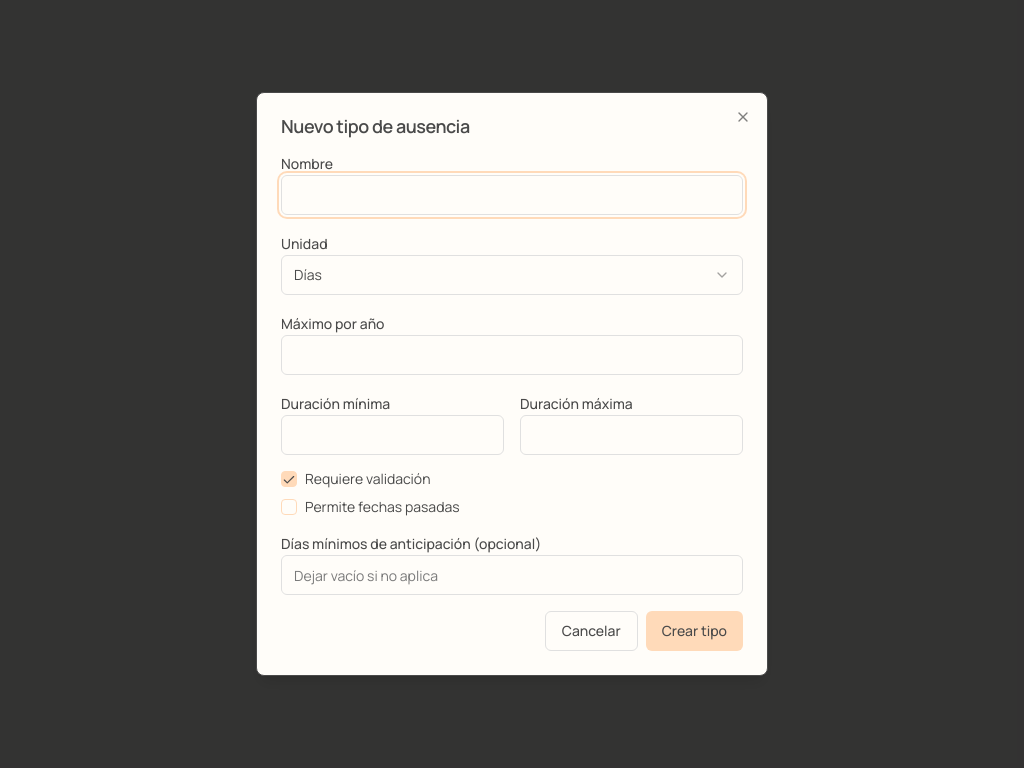
Test: AbsenceTypeFormDialog: modo crear › muestra errores de validación al enviar el formulario vacío
The image size is (1024, 768).
Click the button "Crear tipo" at (694, 631), box [646,611,743,651]
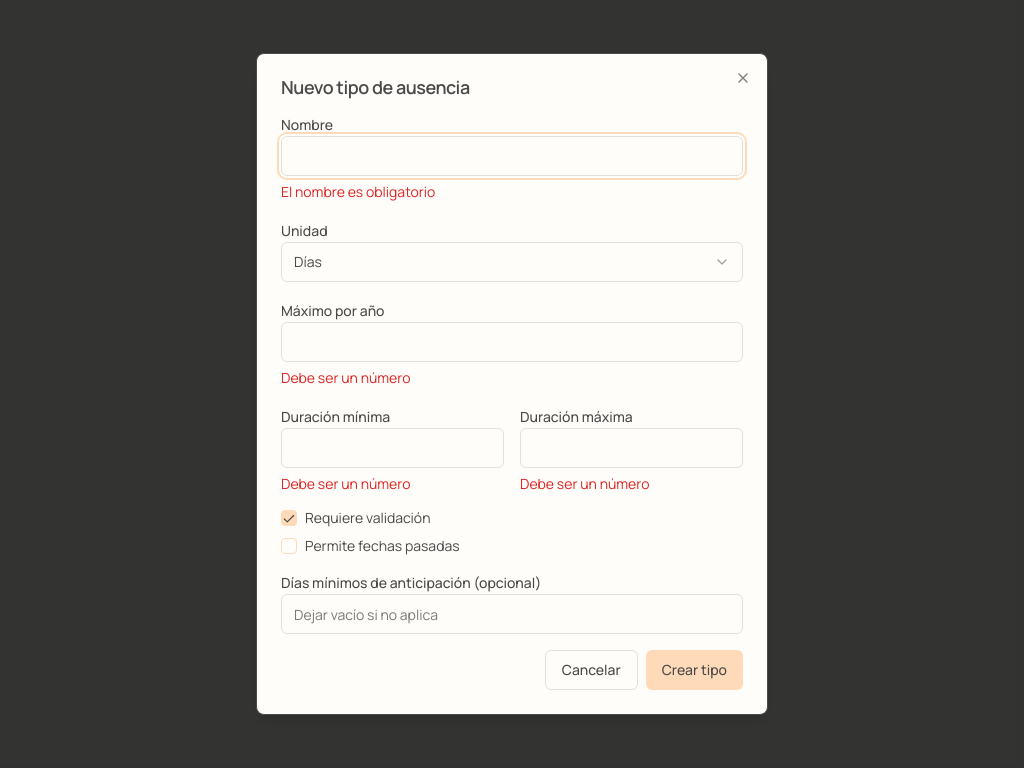
Expected: the message "El nombre es obligatorio" is shown, [281,182,435,201]
